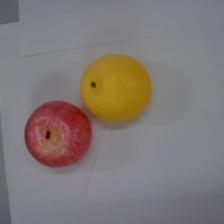red: (24, 99, 93, 168)
yellow: (79, 54, 152, 122)
